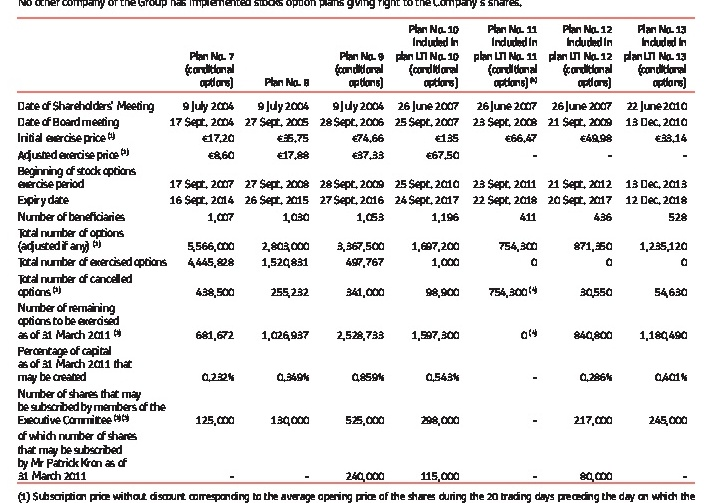table: (0, 0, 712, 503)
